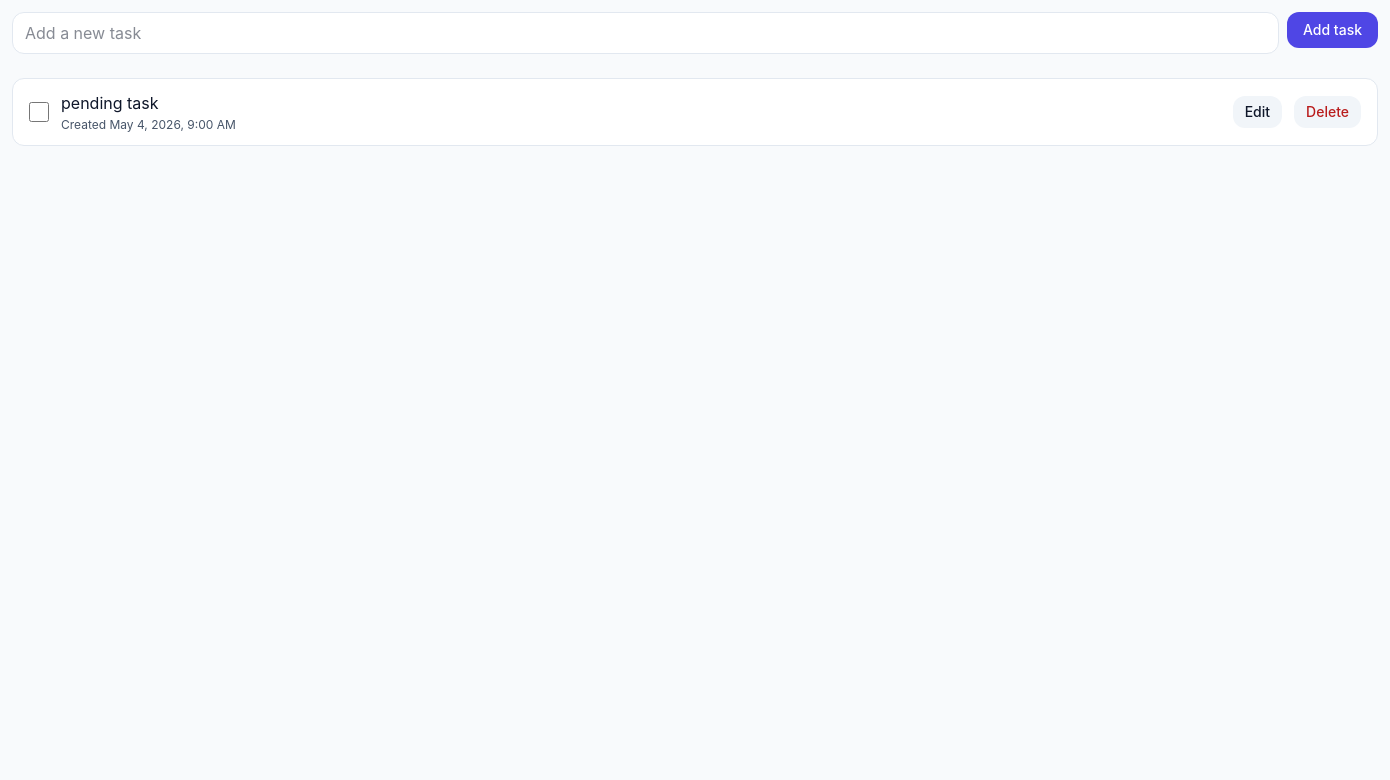
Scenario: <TaskRow /> behaviours (rendered through <TaskList />) › reverts the title and surfaces a notification when the edit 404s
This screenshot has width=1390, height=780.
Click the button named "edit \"pending task\"" at (1257, 112), box [1233,96,1282,128]
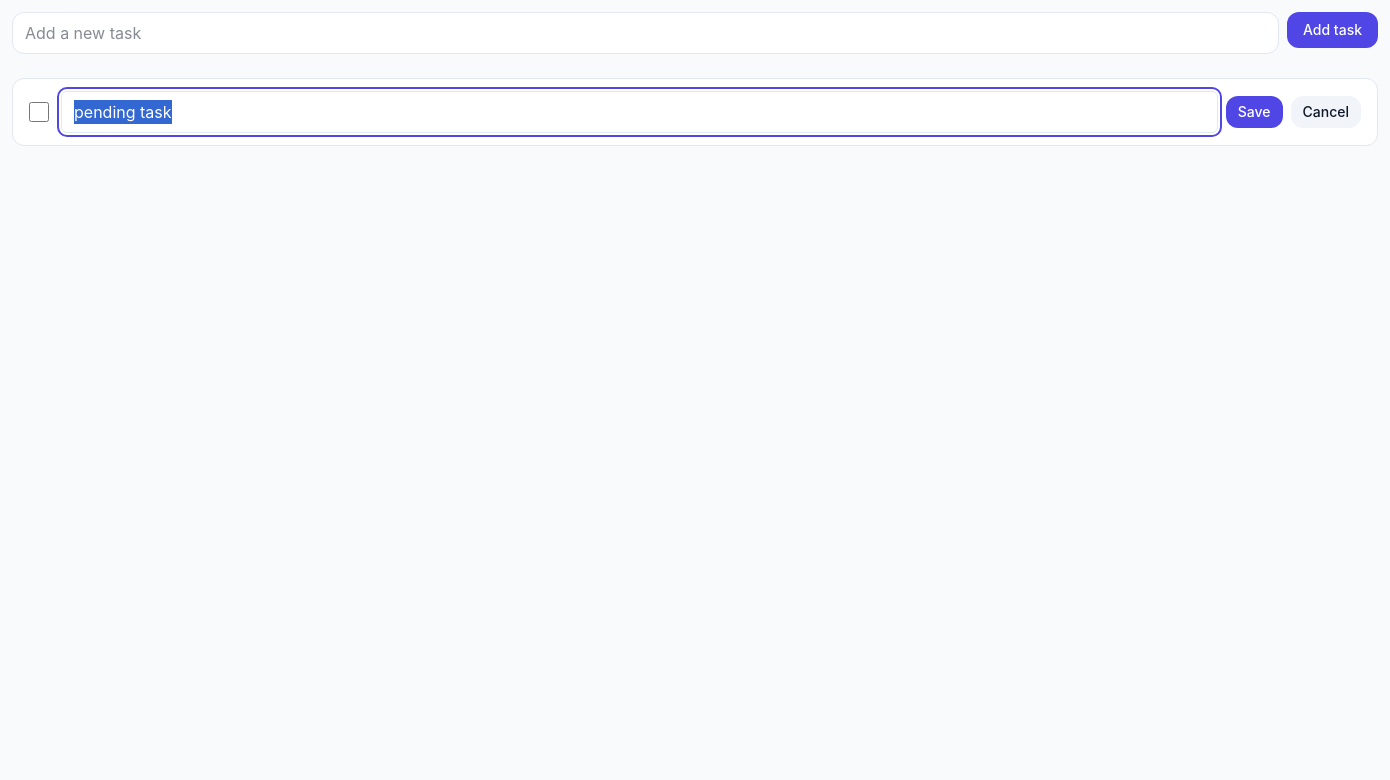
Replace the text in the field named "edit task title" with "edited" at (639, 112), box [61,91,1218,133]
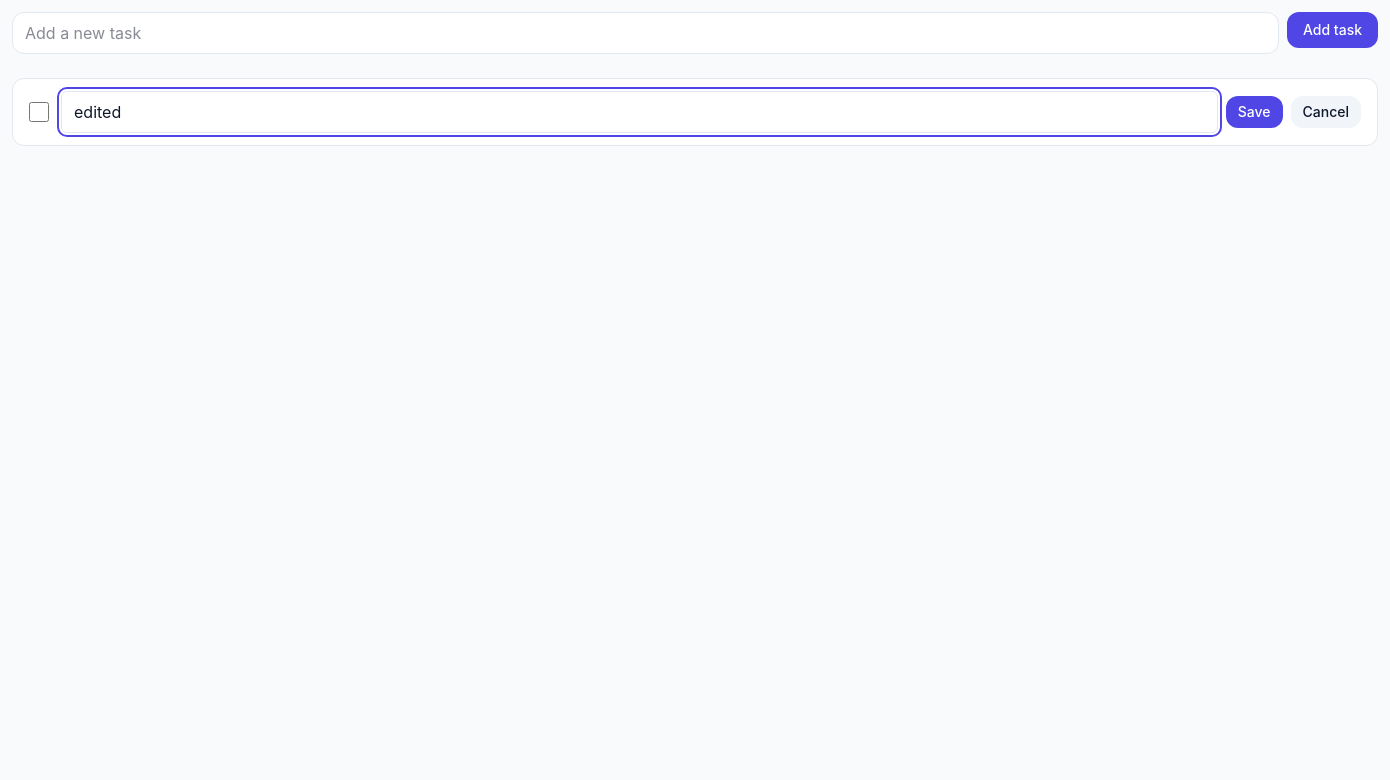
Click the button "Save" at (1254, 112), box [1226,96,1282,128]
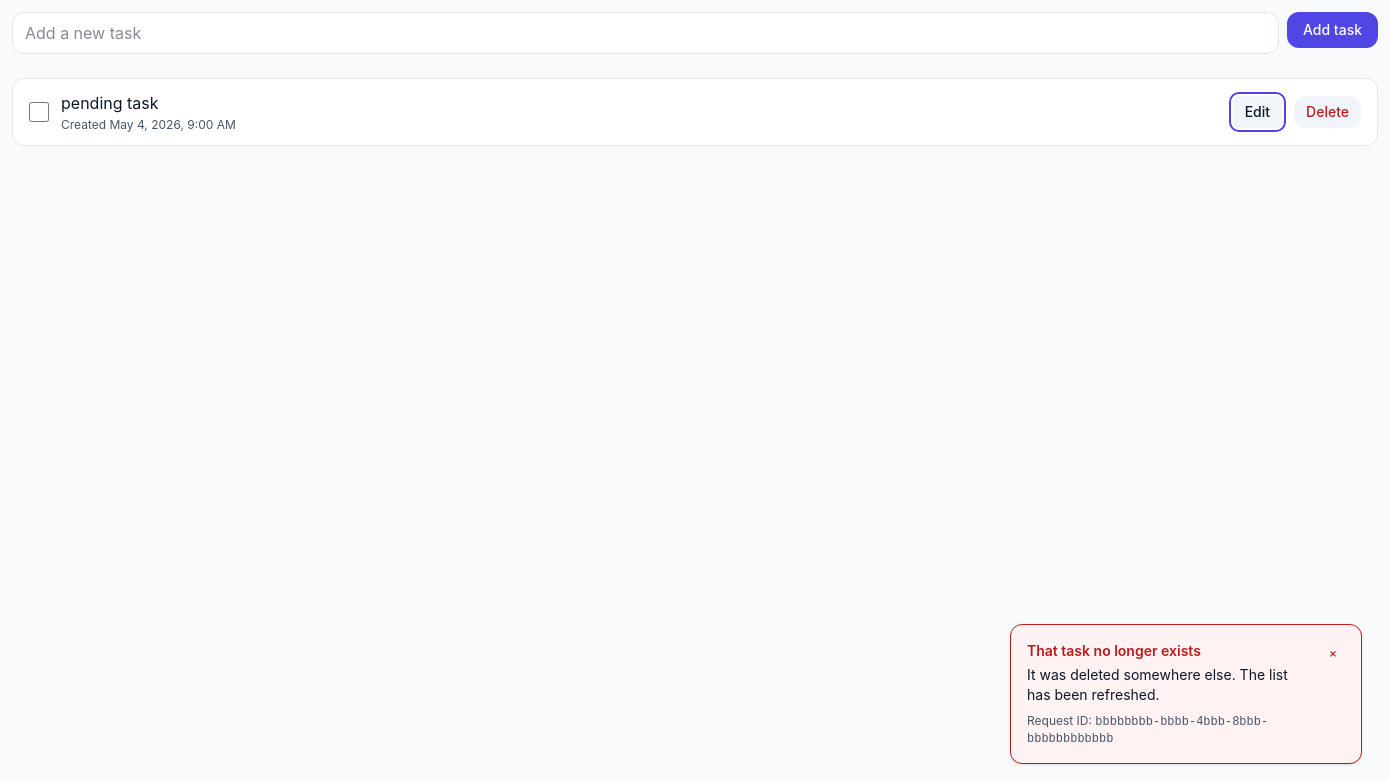
Expected: the text "edited" is not shown
Expected: the text "That task no longer exists" is shown, [1027,642,1201,659]
Expected: the text "pending task" is shown, [61,93,158,113]
